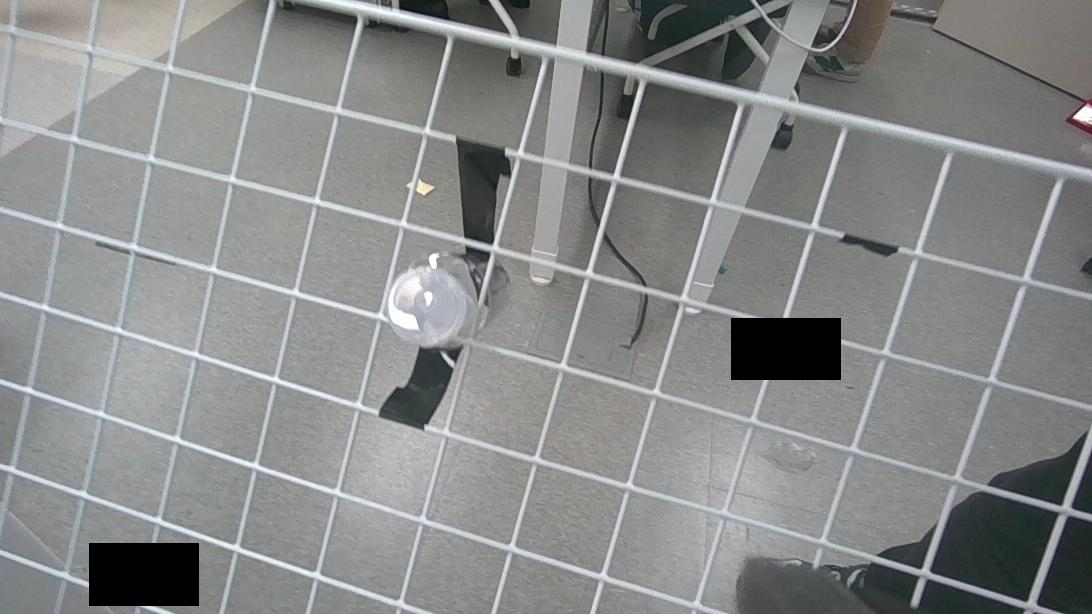Cap: (384, 267, 471, 348)
